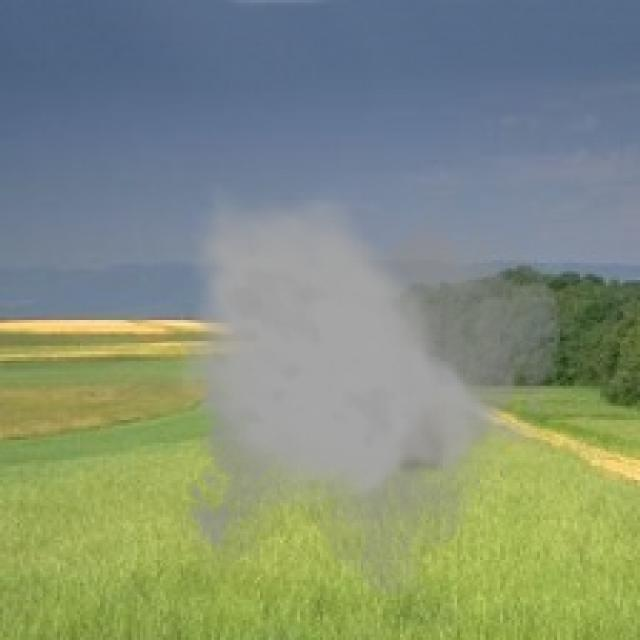Smoke: (174, 182, 566, 598)
